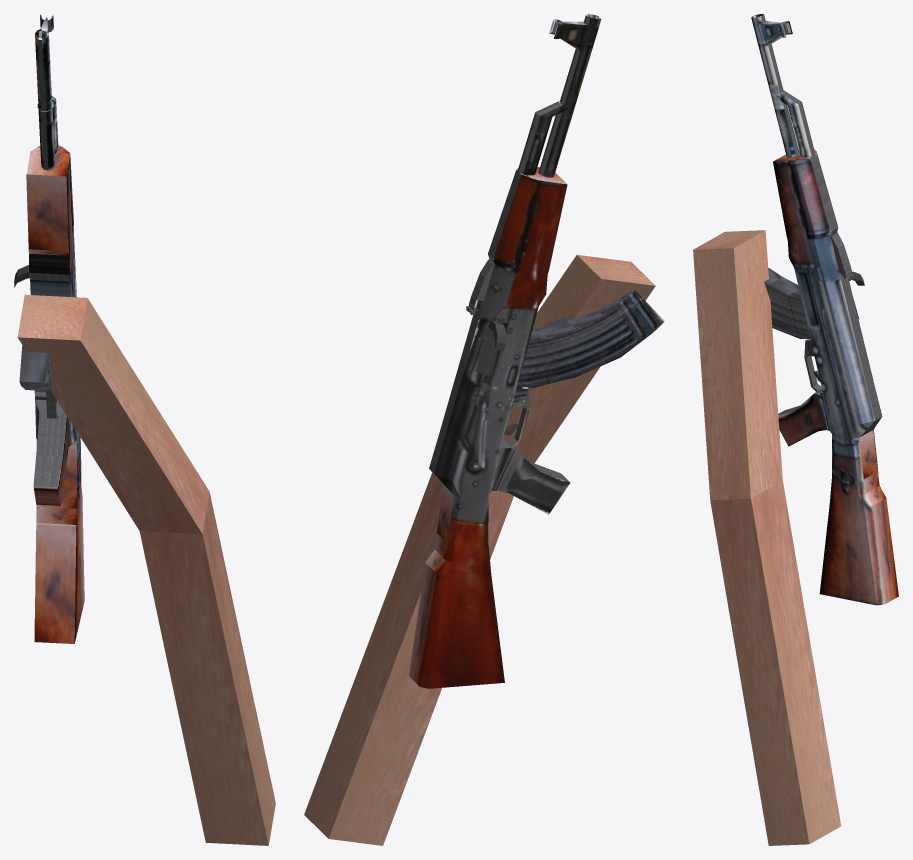
3 renders of one model, left to right at view 1: azimuth 30°, elevation 25°; view 2: azimuth 150°, elevation 25°; view 3: azimuth 270°, elevation 25°, orthographic. The views are drawn at different scales.
Visible parts, largest first — view 1: Cube.001_Cube.006, Cube.007_Cube.005, Cube.002_Cube.003; view 2: Cube.007_Cube.005, Cube.001_Cube.006, Cube.002_Cube.003, Plane; view 3: Cube.001_Cube.006, Cube.007_Cube.005, Cube.002_Cube.003.
Boxes of the visible parts, x1=… form: Cube.001_Cube.006: x1=17, y1=294, x2=275, y2=845; Cube.007_Cube.005: x1=26, y1=14, x2=84, y2=643; Cube.002_Cube.003: x1=19, y1=345, x2=51, y2=391; Cube.007_Cube.005: x1=409, y1=14, x2=601, y2=688; Cube.001_Cube.006: x1=304, y1=255, x2=655, y2=845; Cube.002_Cube.003: x1=517, y1=289, x2=664, y2=387; Plane: x1=476, y1=320, x2=506, y2=375; Cube.001_Cube.006: x1=693, y1=230, x2=841, y2=845; Cube.007_Cube.005: x1=751, y1=14, x2=898, y2=605; Cube.002_Cube.003: x1=764, y1=268, x2=810, y2=339.
Bounding box in the file's own units: 0.928 × 2.49 × 0.6305.
6 materials, 3 textured.
